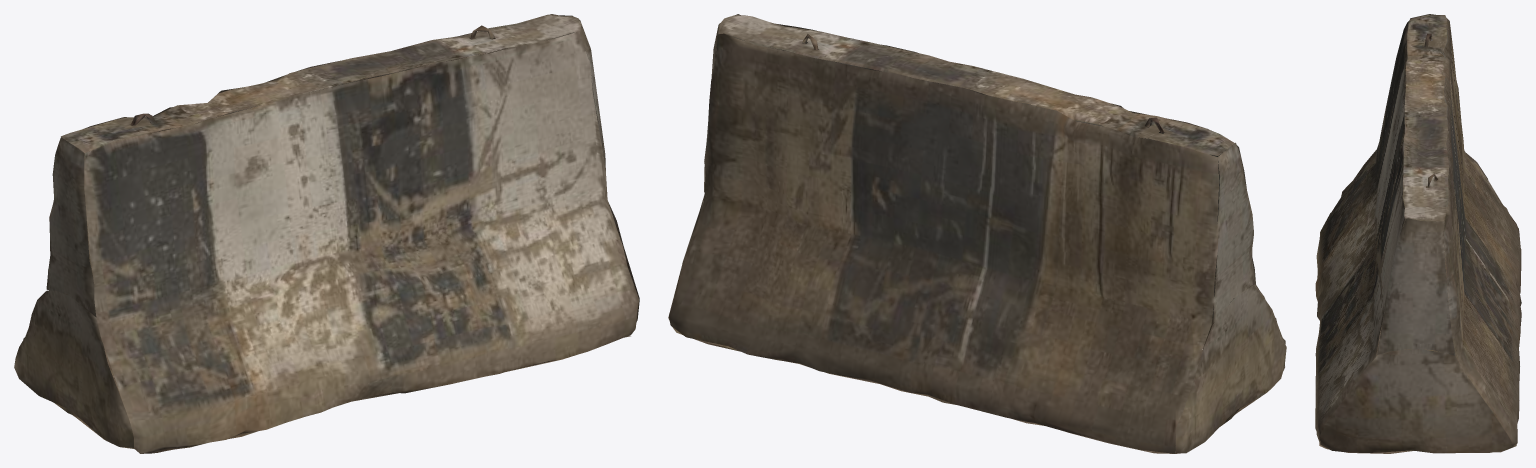
File: ph_concrete_road_barrier.glb
3 views of the same model, side by side, from view 1: azimuth 30°, elevation 25°; view 2: azimuth 150°, elevation 25°; view 3: azimuth 270°, elevation 25° (orthographic). The views are drawn at different scales.
Parts seen in each view (by area): view 1: concrete_road_barrier; view 2: concrete_road_barrier; view 3: concrete_road_barrier.
Boxes of the visible parts, box(x1,y1,x2,y2) form: concrete_road_barrier: box(14, 14, 639, 453); concrete_road_barrier: box(668, 14, 1286, 453); concrete_road_barrier: box(1315, 14, 1521, 453).
Bounding box in the file's own units: 1.54 × 0.8323 × 0.6338.
Materials: 1 (1 with a texture image).
